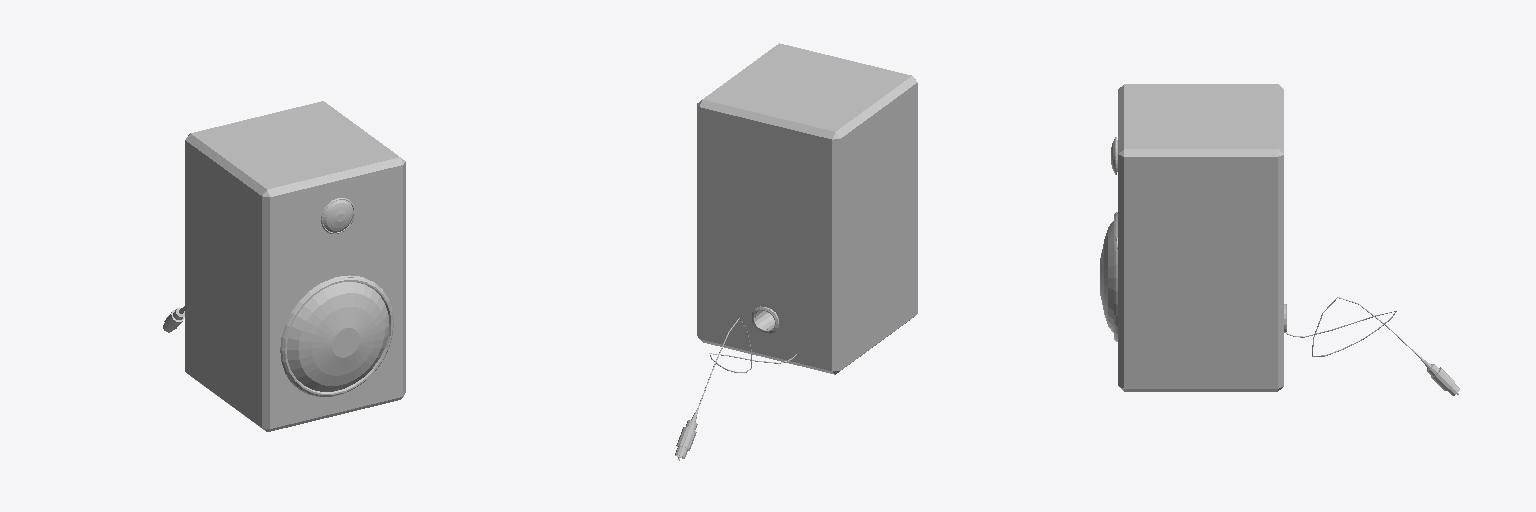
The model's file is speaker.obj.
3 renders of one model, left to right at view 1: azimuth 30°, elevation 25°; view 2: azimuth 150°, elevation 25°; view 3: azimuth 270°, elevation 25°, orthographic.
Visible parts, largest first — view 1: Mesh (2); view 2: Mesh (2); view 3: Mesh (2).
Boxes of the visible parts, box(x1,y1,x2,y2) form: Mesh (2): box(163, 101, 405, 431); Mesh (2): box(675, 43, 917, 460); Mesh (2): box(1100, 84, 1459, 395).
Bounding box in the file's own units: 0.82 × 1.52 × 1.78.